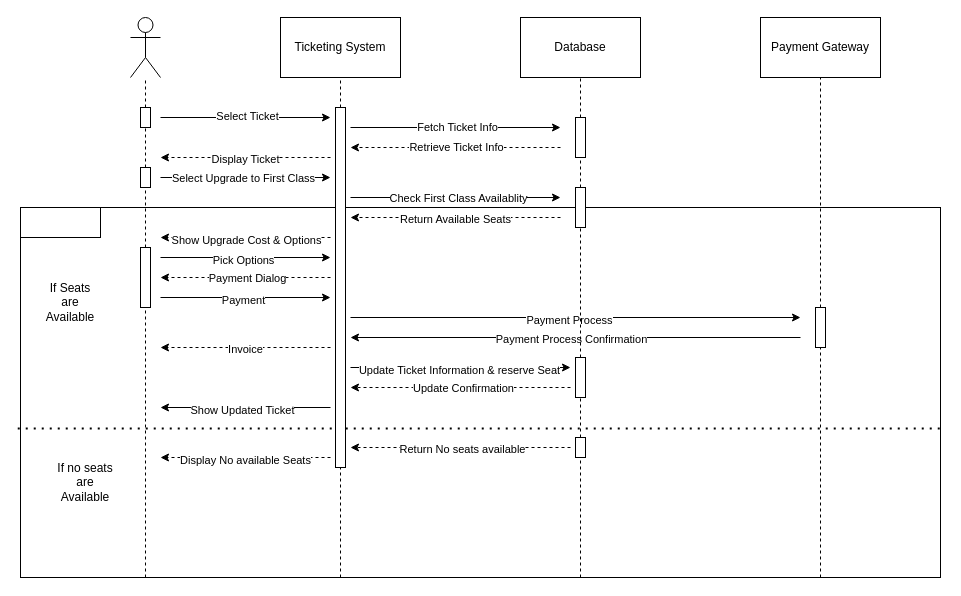
The diagram is 961 pixels wide and 596 high, and some of its shapes have lost their labels. The shapes that lost their labels are listed below. From the top down, each one's centre as x and y in pixels, then its label:
At (145,47): "User".
At (60,222): "Alternative".
